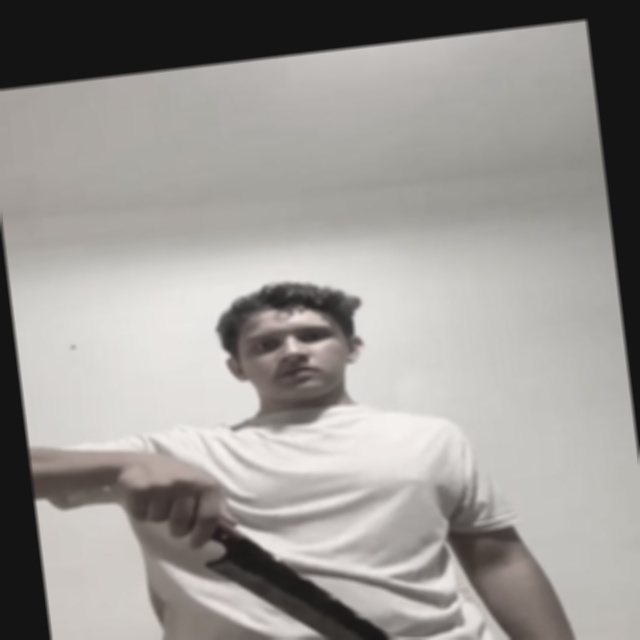Sharp-Object: (200, 520, 448, 640)
